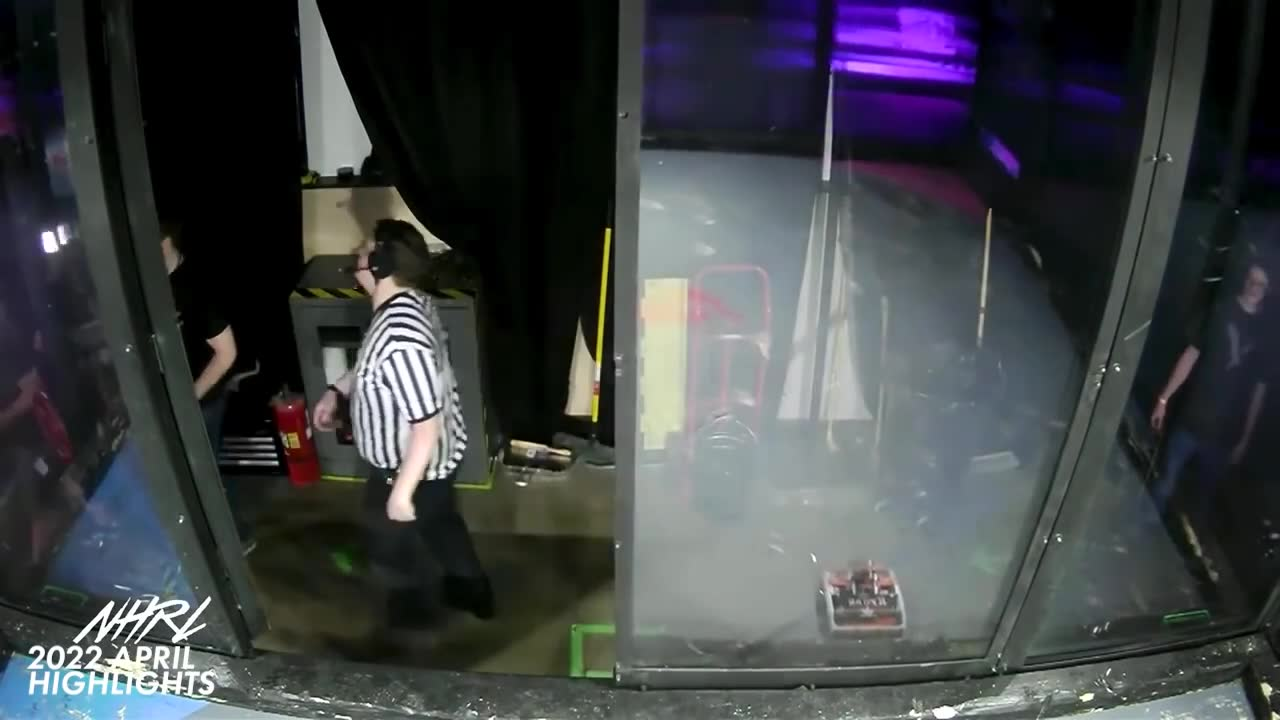combatbot: (824, 569, 905, 630)
